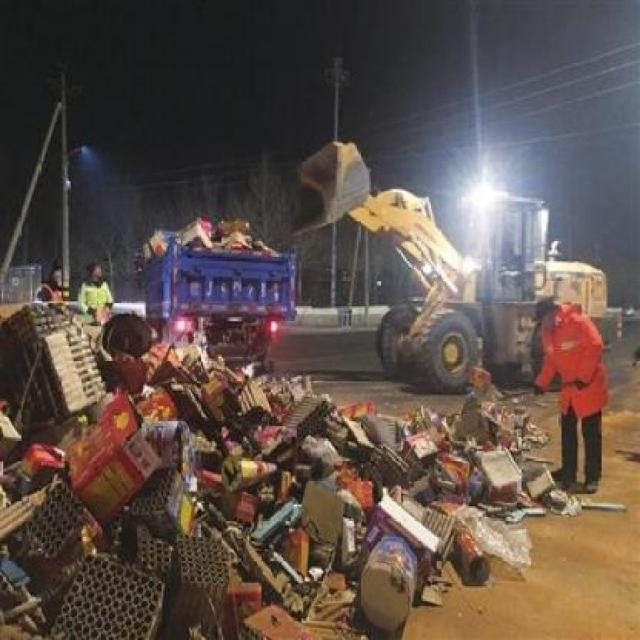garbage: (0, 328, 275, 634), (191, 395, 518, 626)
